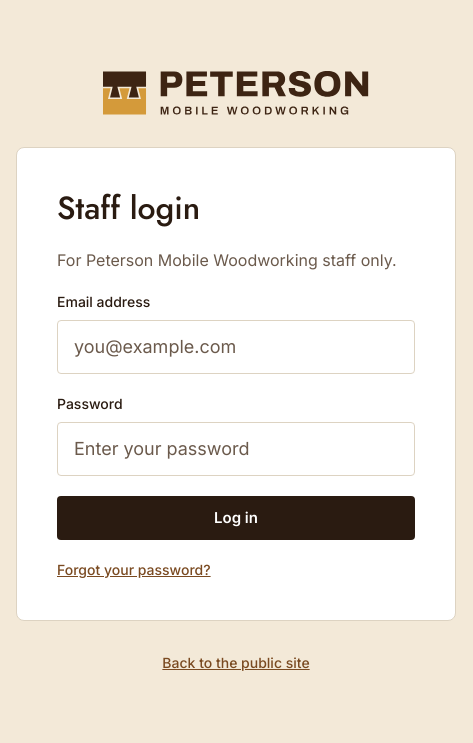
Scenario: StaffLoginRoute › shows the wrong email or password state when the sign-in fails
In the field labelled "Email address": (236, 347) [57, 320, 415, 374], type "todd@example.com"
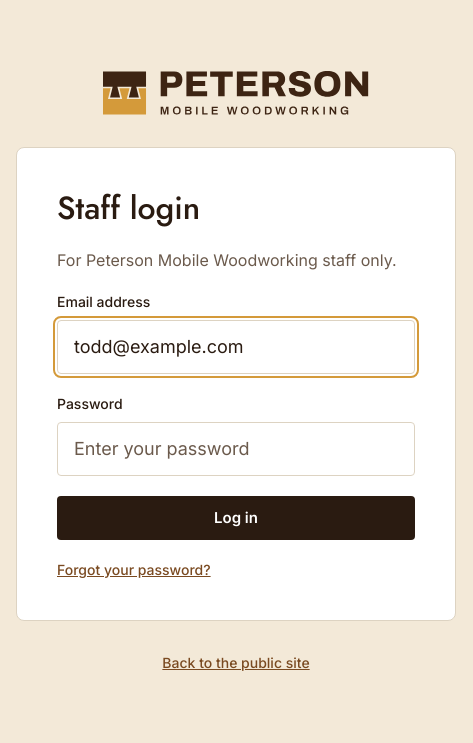
In the password field labelled "Password": (236, 449) [57, 422, 415, 476], type "not-the-password"
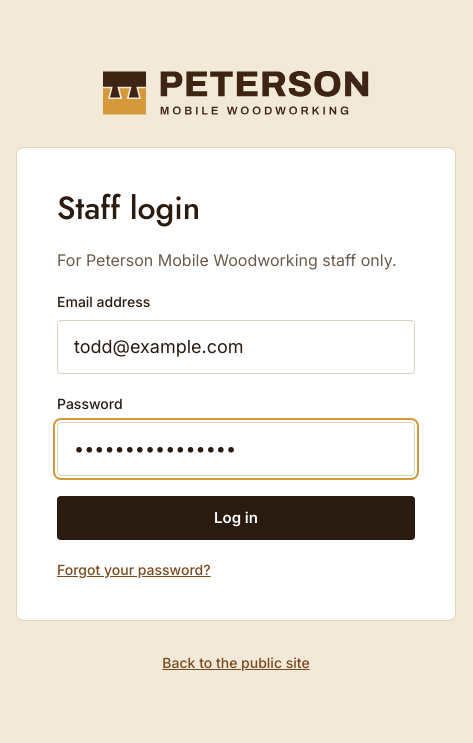
Click the button "Log in": click(236, 518) [57, 496, 415, 540]
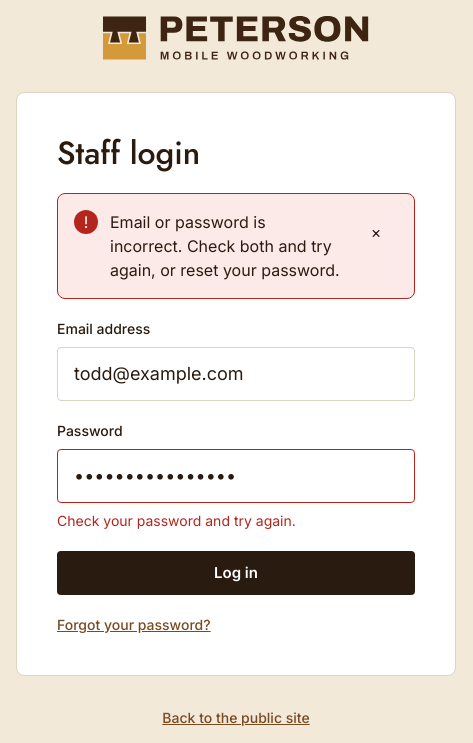
Now the text "Email or password is incorrect" is shown, box [110, 212, 340, 280]
